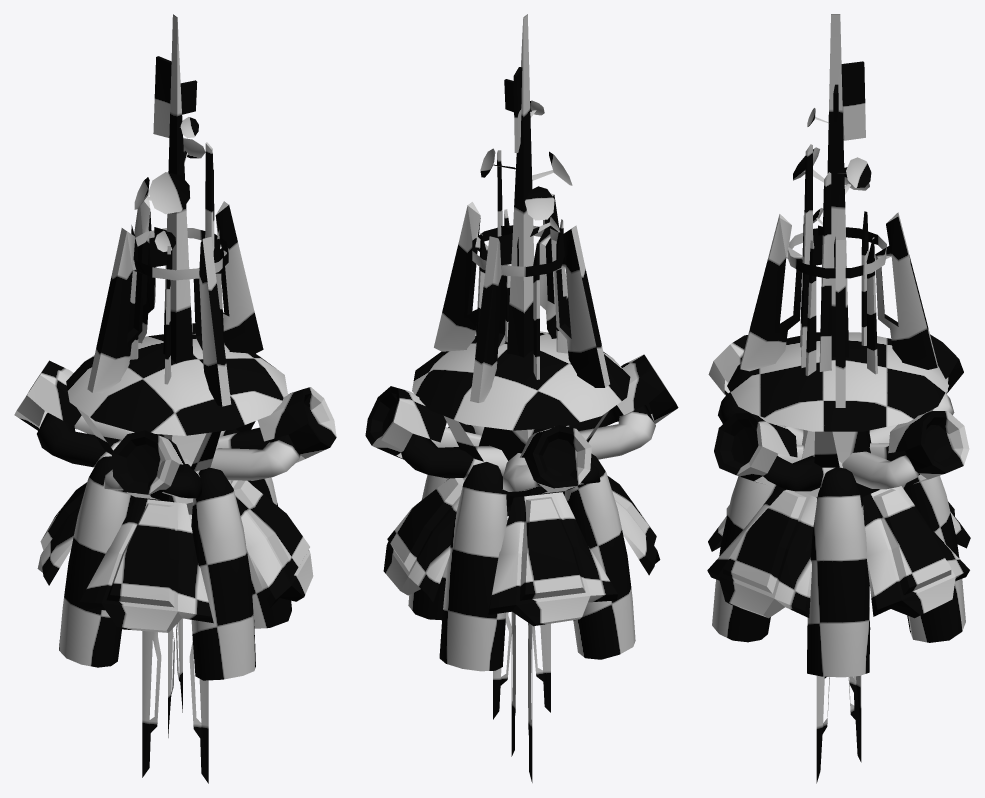
File: building_questgiver_beacon.obj
The picture shows the model from 3 angles, left to right: view 1: azimuth 30°, elevation 25°; view 2: azimuth 150°, elevation 25°; view 3: azimuth 270°, elevation 25°; orthographic projection.
Visible parts, largest first — view 1: Object141; view 2: Object141; view 3: Object141.
Boxes of the visible parts, x1,y1,x2,y2 form: Object141: (14, 14, 336, 783); Object141: (365, 14, 678, 782); Object141: (707, 14, 970, 783).
Size of the model in its own units: 141 by 447 by 141.
Materials: 1 (1 with a texture image).
